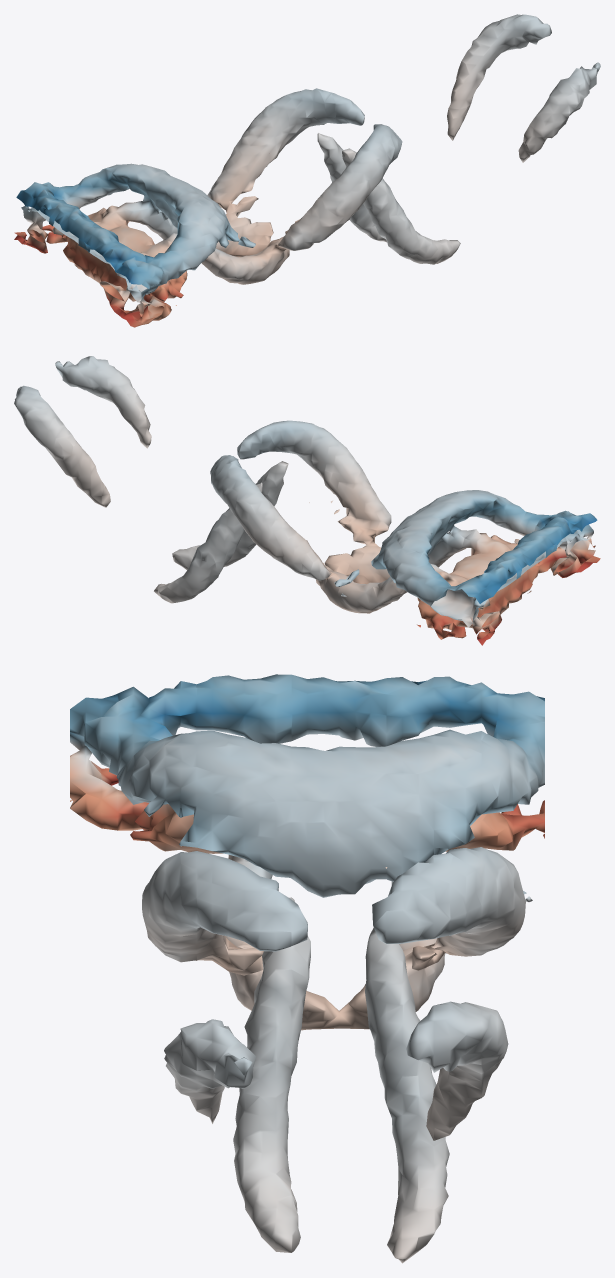
The picture shows the model from 3 angles, top to bottom: view 1: azimuth 30°, elevation 25°; view 2: azimuth 150°, elevation 25°; view 3: azimuth 270°, elevation 25°; orthographic projection. The views are drawn at different scales.
Bounding box in the file's own units: 6.12 × 2.18 × 2.5.
